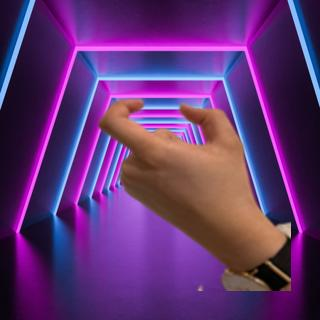HATE: (90, 89, 265, 249)
